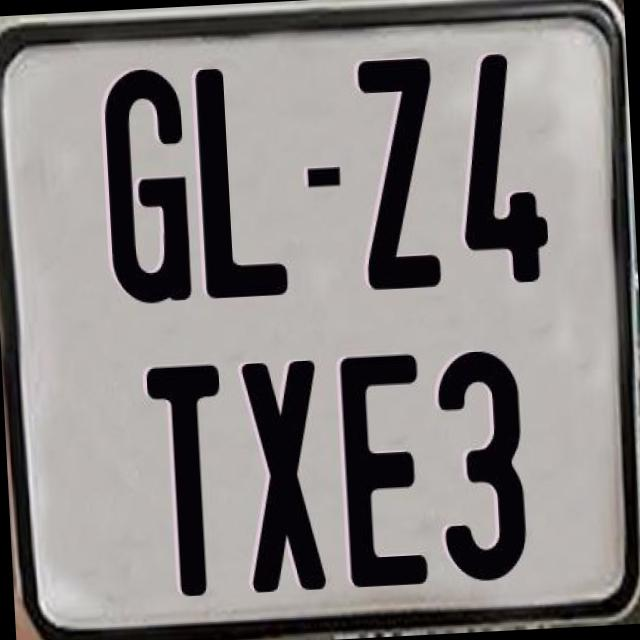3: (437, 350, 530, 582)
4: (456, 50, 557, 284)
E: (335, 348, 426, 592)
G: (102, 63, 192, 307)
L: (194, 61, 290, 294)
T: (146, 363, 238, 608)
X: (237, 357, 331, 593)
Z: (357, 56, 449, 292)
